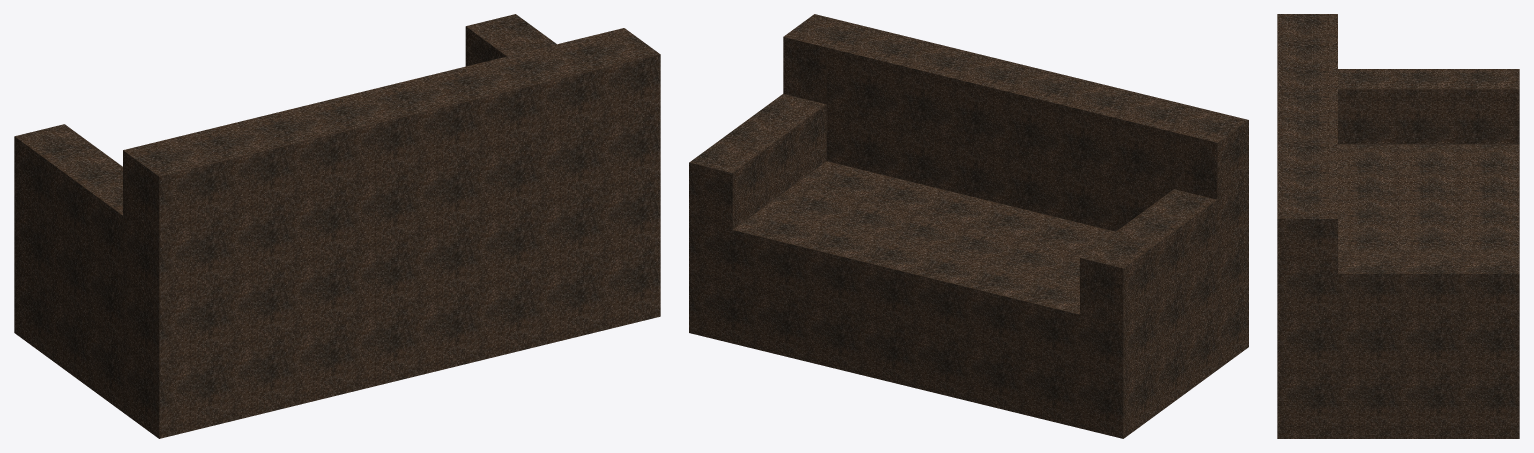
The model's file is couch.obj.
The picture shows the model from 3 angles, left to right: view 1: azimuth 30°, elevation 25°; view 2: azimuth 150°, elevation 25°; view 3: azimuth 270°, elevation 25°; orthographic projection. The views are drawn at different scales.
Parts seen in each view (by area): view 1: Cube; view 2: Cube; view 3: Cube.
Boxes of the visible parts, x1,y1,x2,y2 form: Cube: [14, 14, 660, 438]; Cube: [689, 14, 1248, 438]; Cube: [1277, 14, 1519, 438].
Size of the model in its own units: 4 by 2 by 2.
